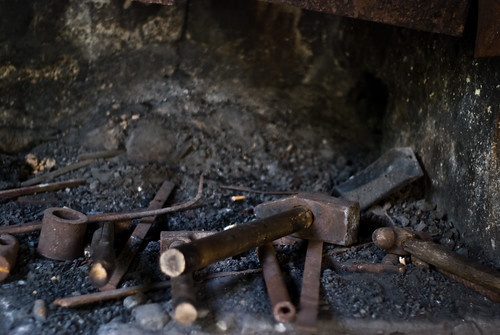hammer: (162, 189, 363, 277)
